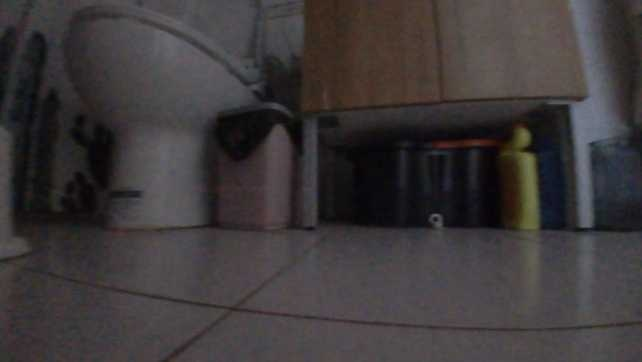toilet: (68, 7, 264, 232)
trash_can: (210, 102, 302, 230)
